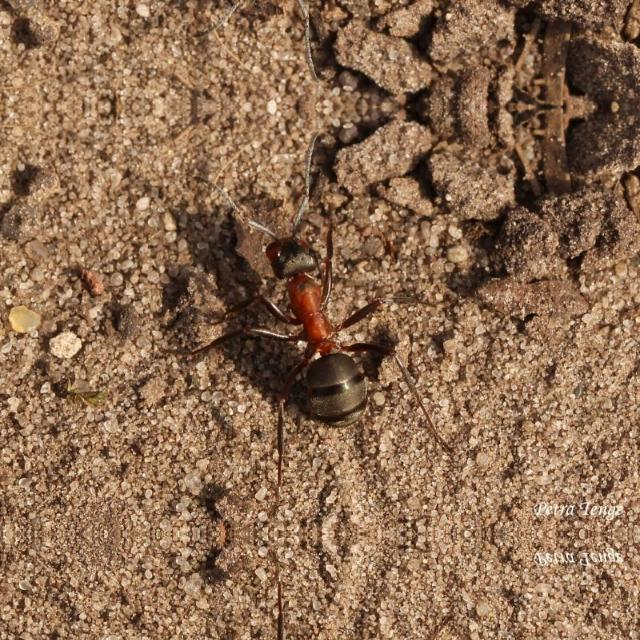Formica: (240, 207, 398, 417)
